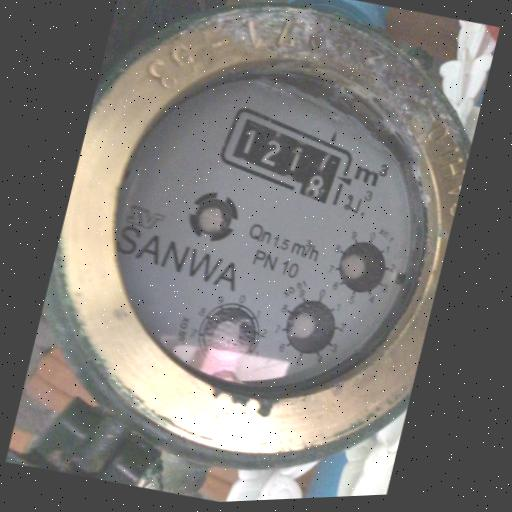1: (230, 117, 267, 166), (277, 136, 311, 184)
2: (252, 126, 290, 175)
7: (298, 145, 341, 205)
border_water_meter_number: (207, 98, 368, 218)
